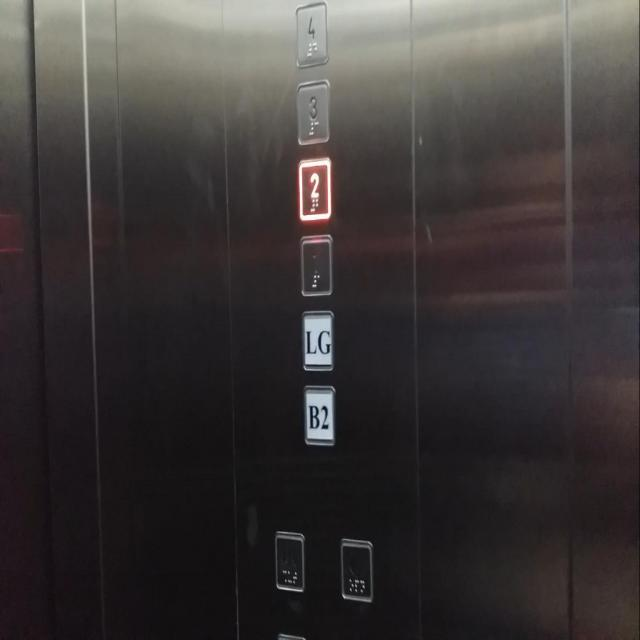1: (299, 233, 333, 297)
2: (297, 155, 332, 222)
3: (296, 76, 330, 146)
4: (294, 2, 330, 69)
B2: (303, 384, 335, 448)
LG: (302, 307, 334, 371)
blur: (338, 536, 374, 602)
close: (273, 529, 305, 593)
